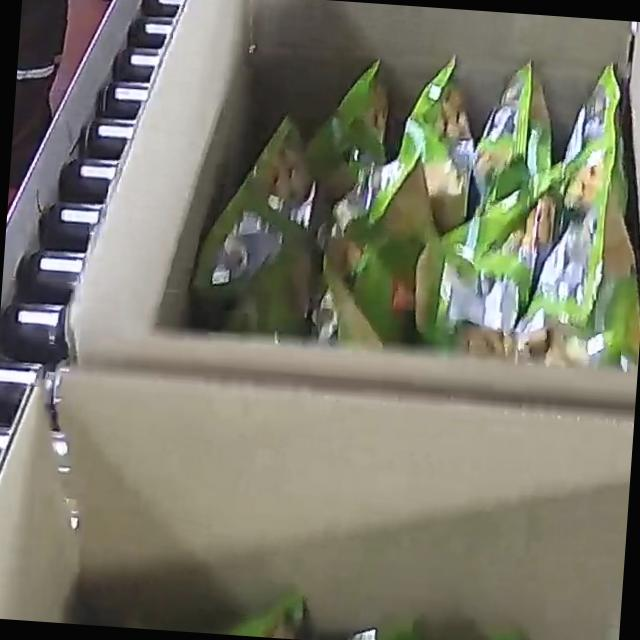yogurt: (182, 29, 640, 371)
